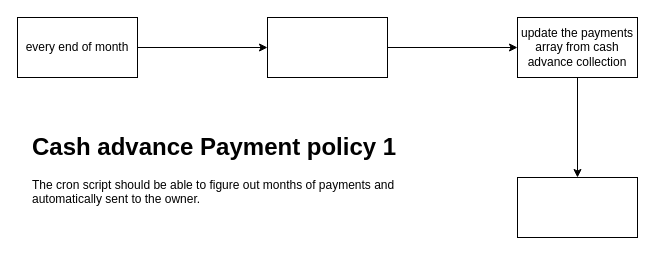
Image size: 655x265. Some labels were removed from this diagram. Each missing label, with the box of its shape:
the payments would be added to the earnings of the owner: (516, 176, 638, 238)
trigger update of cashadvance payment from earning of a shareholder: (266, 16, 388, 78)
